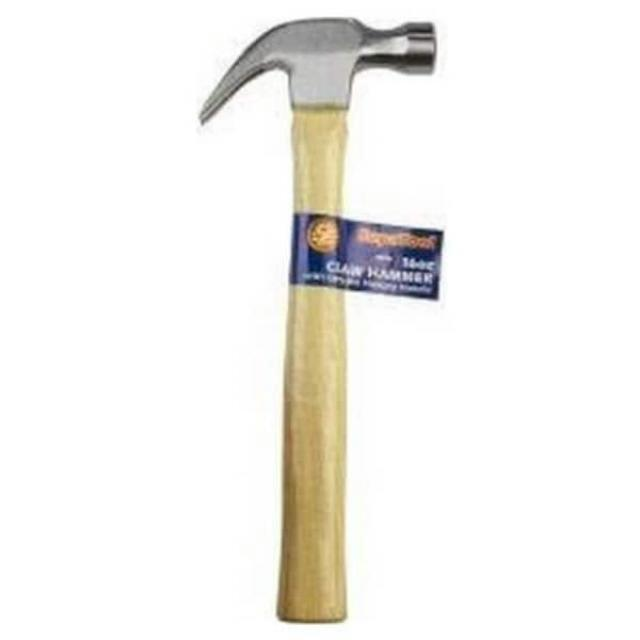hammer: (196, 4, 444, 621)
